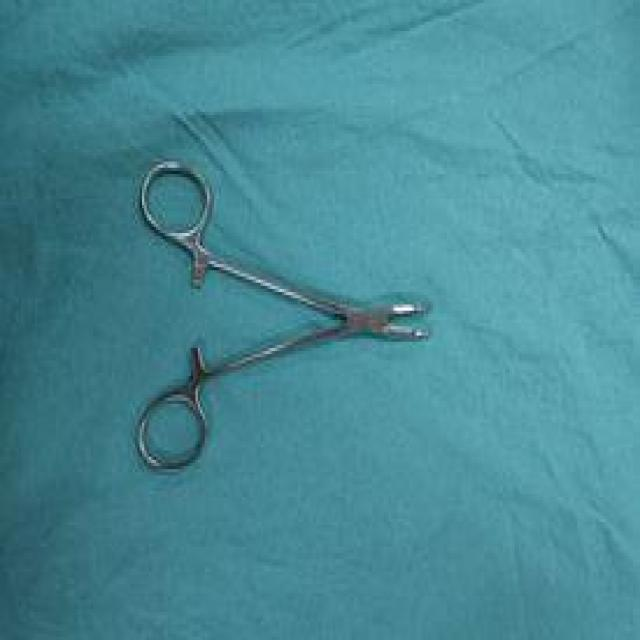Hemostat: (130, 149, 436, 482)
